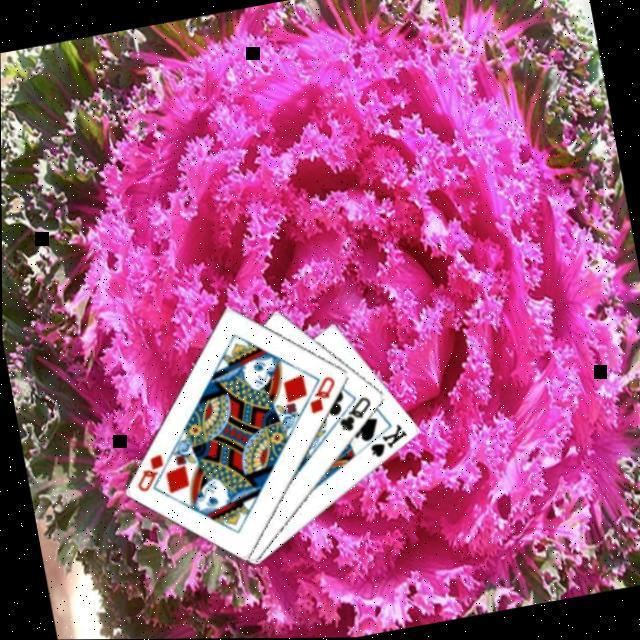KS: (363, 418, 412, 460)
QC: (332, 390, 378, 434)
QD: (128, 447, 171, 494), (302, 370, 343, 414)
